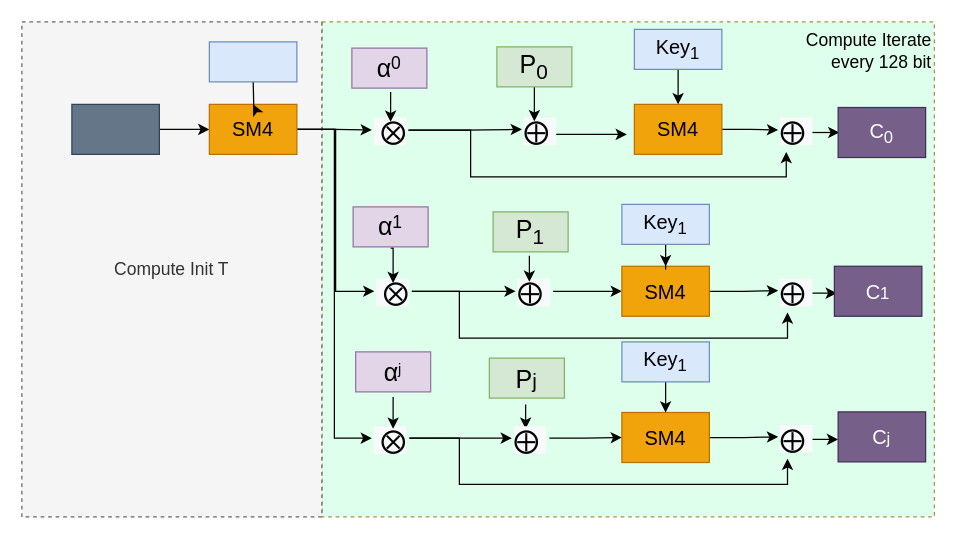
This 956x539 diagram has some shape labels left out. Here are the shapes that lost their labels. From the top down, the centre of each, then its label:
At point (252, 61): "Key 2".
At point (115, 128): "Tweak".
